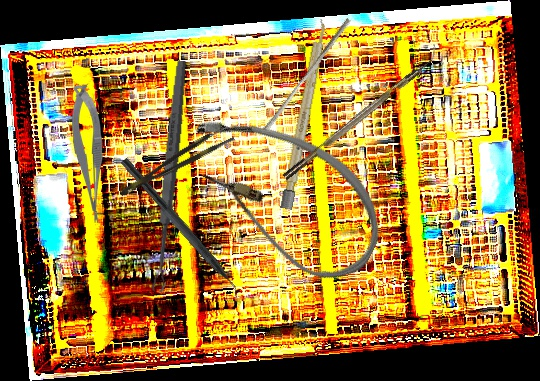Cannula: (161, 93, 404, 297)
Chopper: (276, 43, 445, 181), (110, 157, 250, 307)
Micro Scissor: (70, 84, 105, 224)
Pusher: (261, 14, 352, 137)
Scalpel Handle: (280, 18, 329, 210)
Surgical Spoon: (149, 59, 190, 293)
Tissue Forceps: (114, 124, 236, 198)
